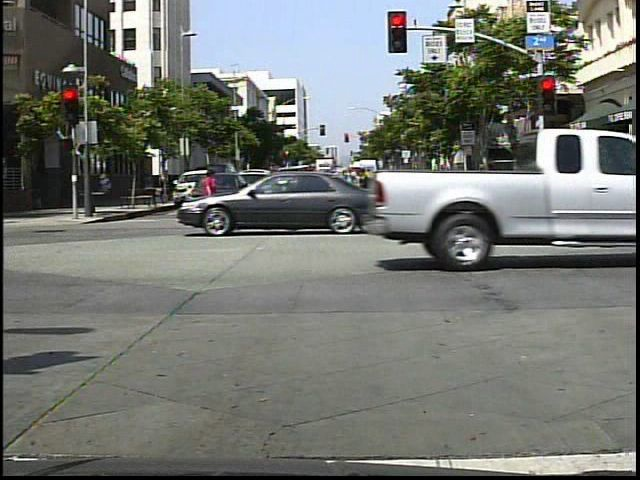person: (353, 165, 388, 234), (404, 162, 436, 226), (567, 157, 590, 207), (195, 166, 216, 203)
